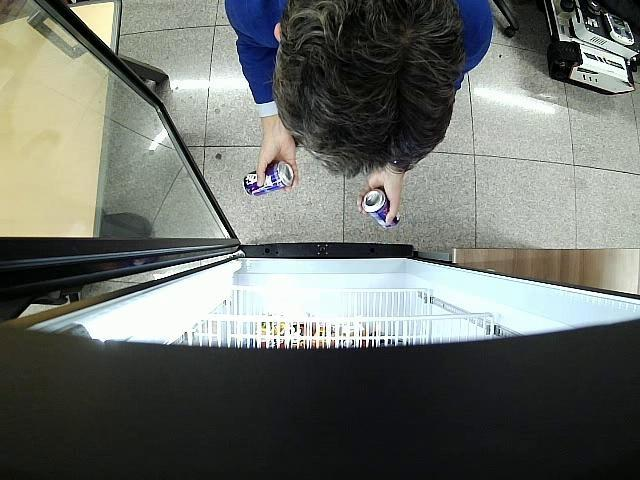14_welchsGrape: (242, 160, 294, 194), (362, 187, 400, 229)
